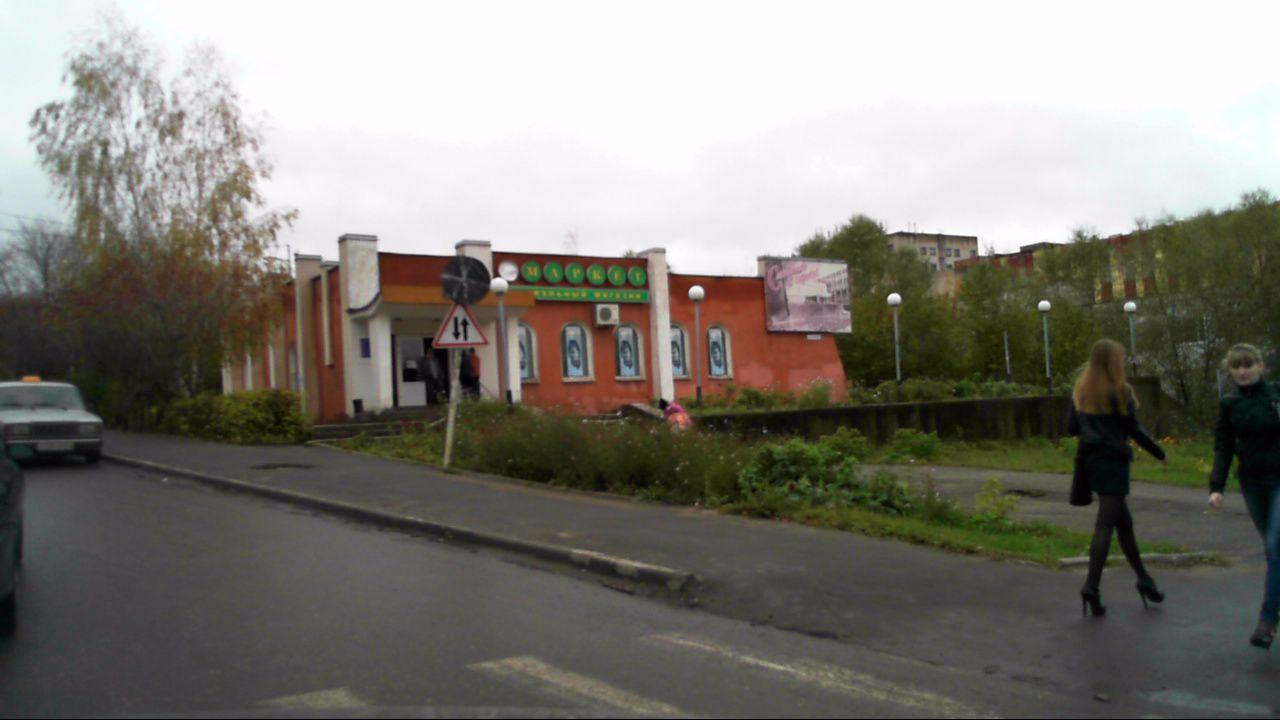1_21: (430, 301, 490, 349)
